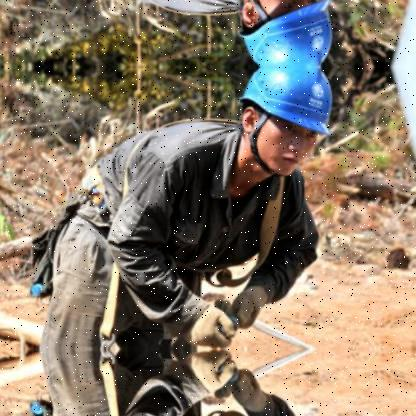helmet: (230, 65, 338, 183), (229, 0, 338, 66)
